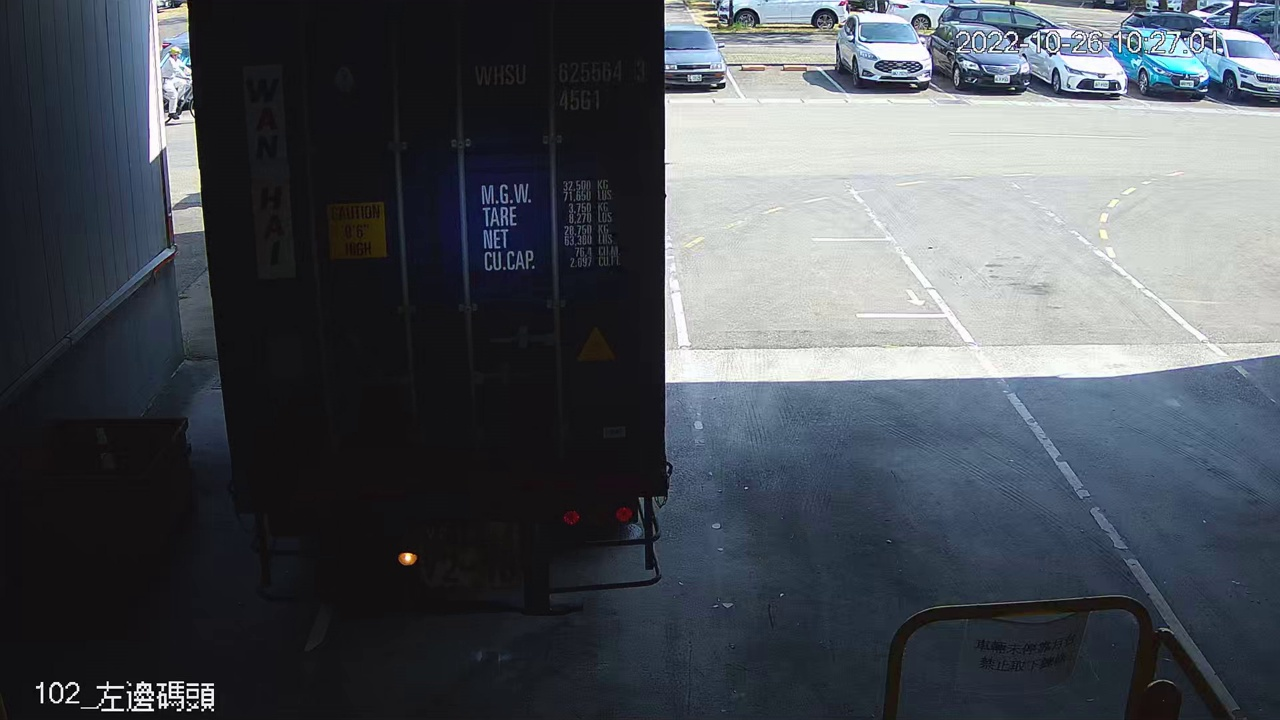container: (468, 50, 654, 117)
